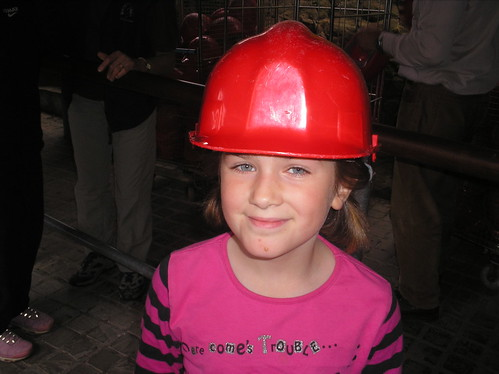person hardhat: (162, 19, 406, 373)
